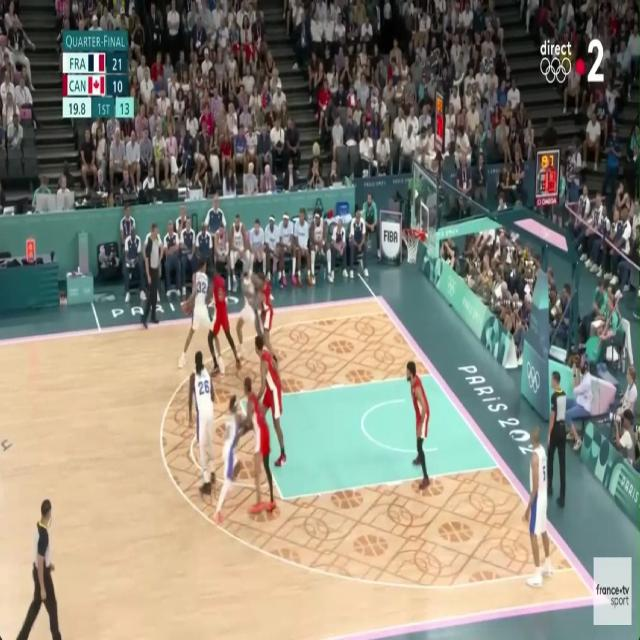ball_handler: (178, 259, 210, 368)
